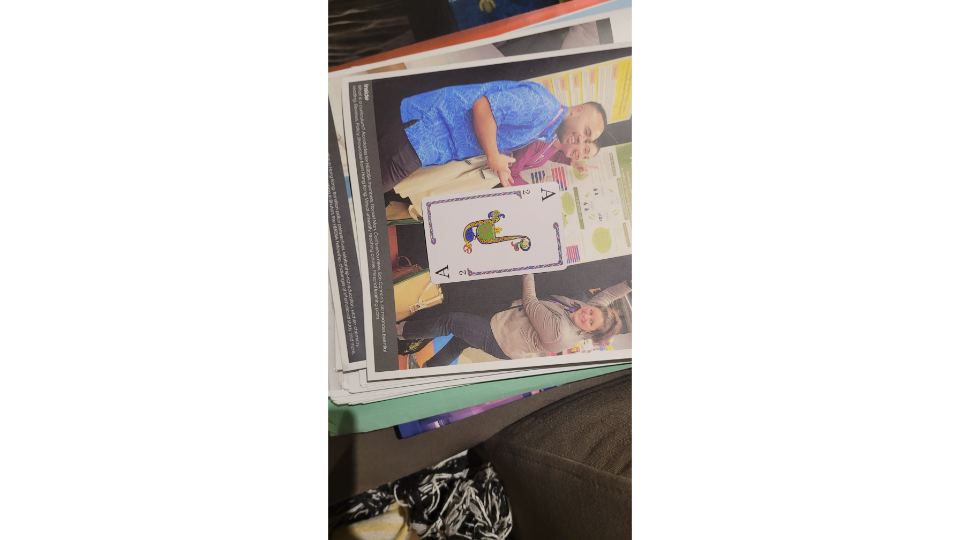A: (414, 179, 571, 286)
